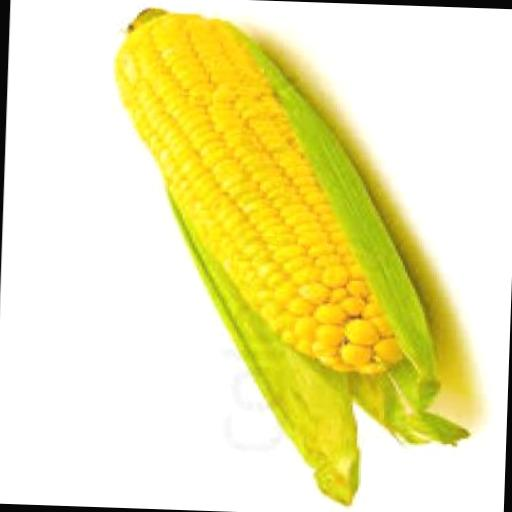biodegradable: (91, 8, 480, 512)
